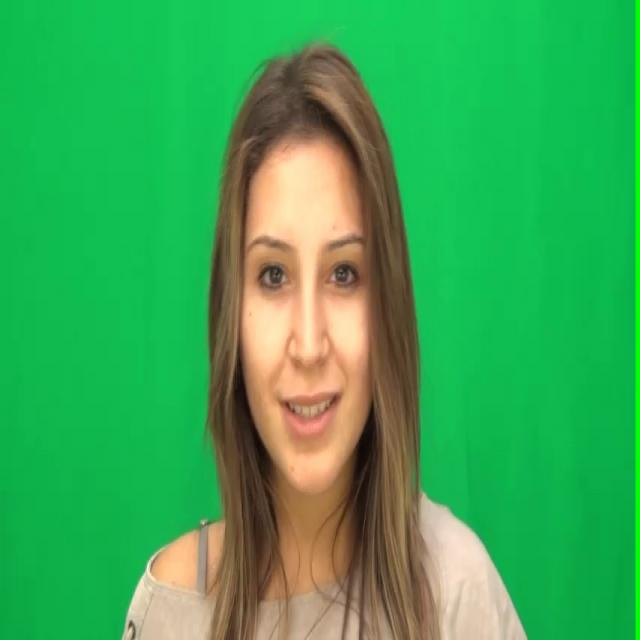Engaged: (235, 131, 380, 484)
